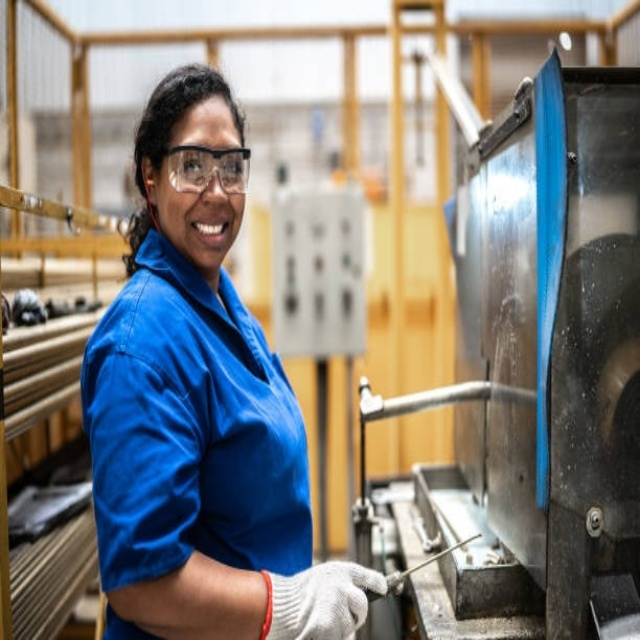Gafas: (160, 146, 253, 195)
Guantes: (260, 560, 389, 640)
Sin_mascara: (182, 212, 232, 251)
